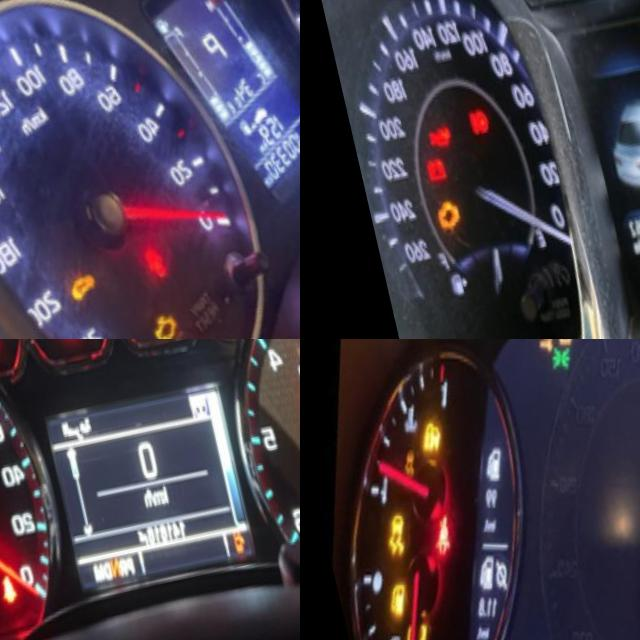Electronic Power Steering: (449, 106, 476, 145)
Low fuel level: (366, 575, 401, 627)
security: (34, 268, 85, 319), (406, 420, 441, 464)
